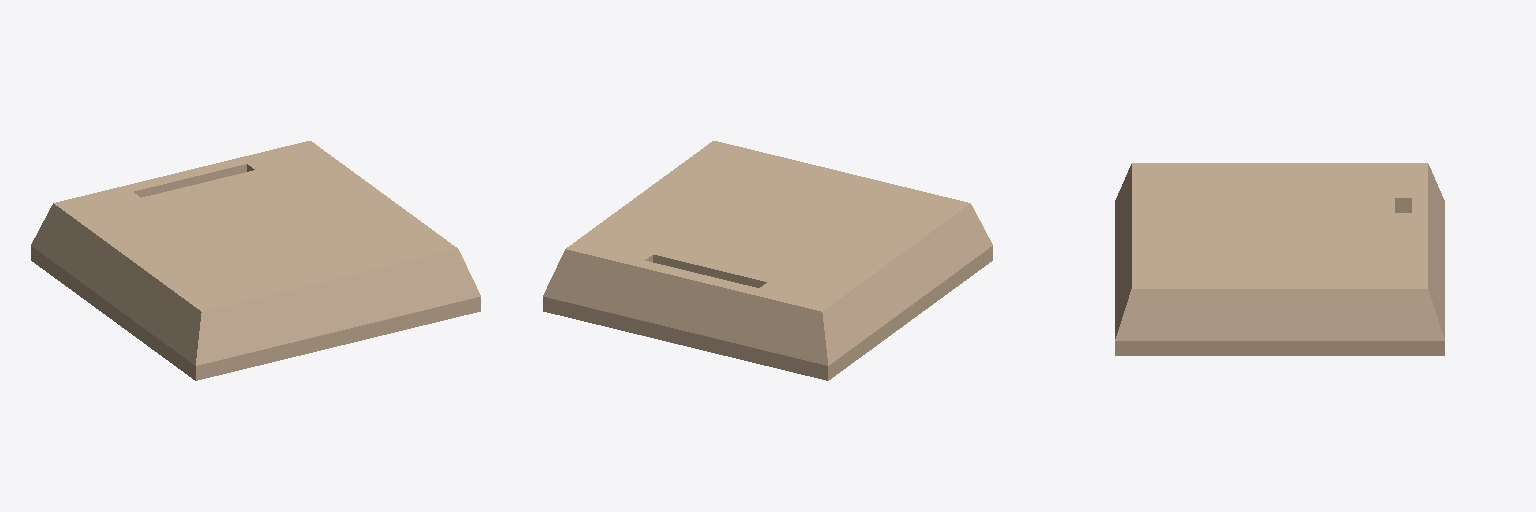
Rendered from silo_hatch.obj.
3 renders of one model, left to right at view 1: azimuth 30°, elevation 25°; view 2: azimuth 150°, elevation 25°; view 3: azimuth 270°, elevation 25°, orthographic.
Parts seen in each view (by area): view 1: Frame, Hatch; view 2: Frame, Hatch; view 3: Frame, Hatch.
Boxes of the visible parts, <box> form: Frame: <box>31,141,480,380</box>; Hatch: <box>99,160,412,292</box>; Frame: <box>543,141,992,380</box>; Hatch: <box>611,160,924,292</box>; Frame: <box>1115,163,1444,355</box>; Hatch: <box>1165,177,1411,274</box>.
Bounding box in the file's own units: 5 × 1 × 5.